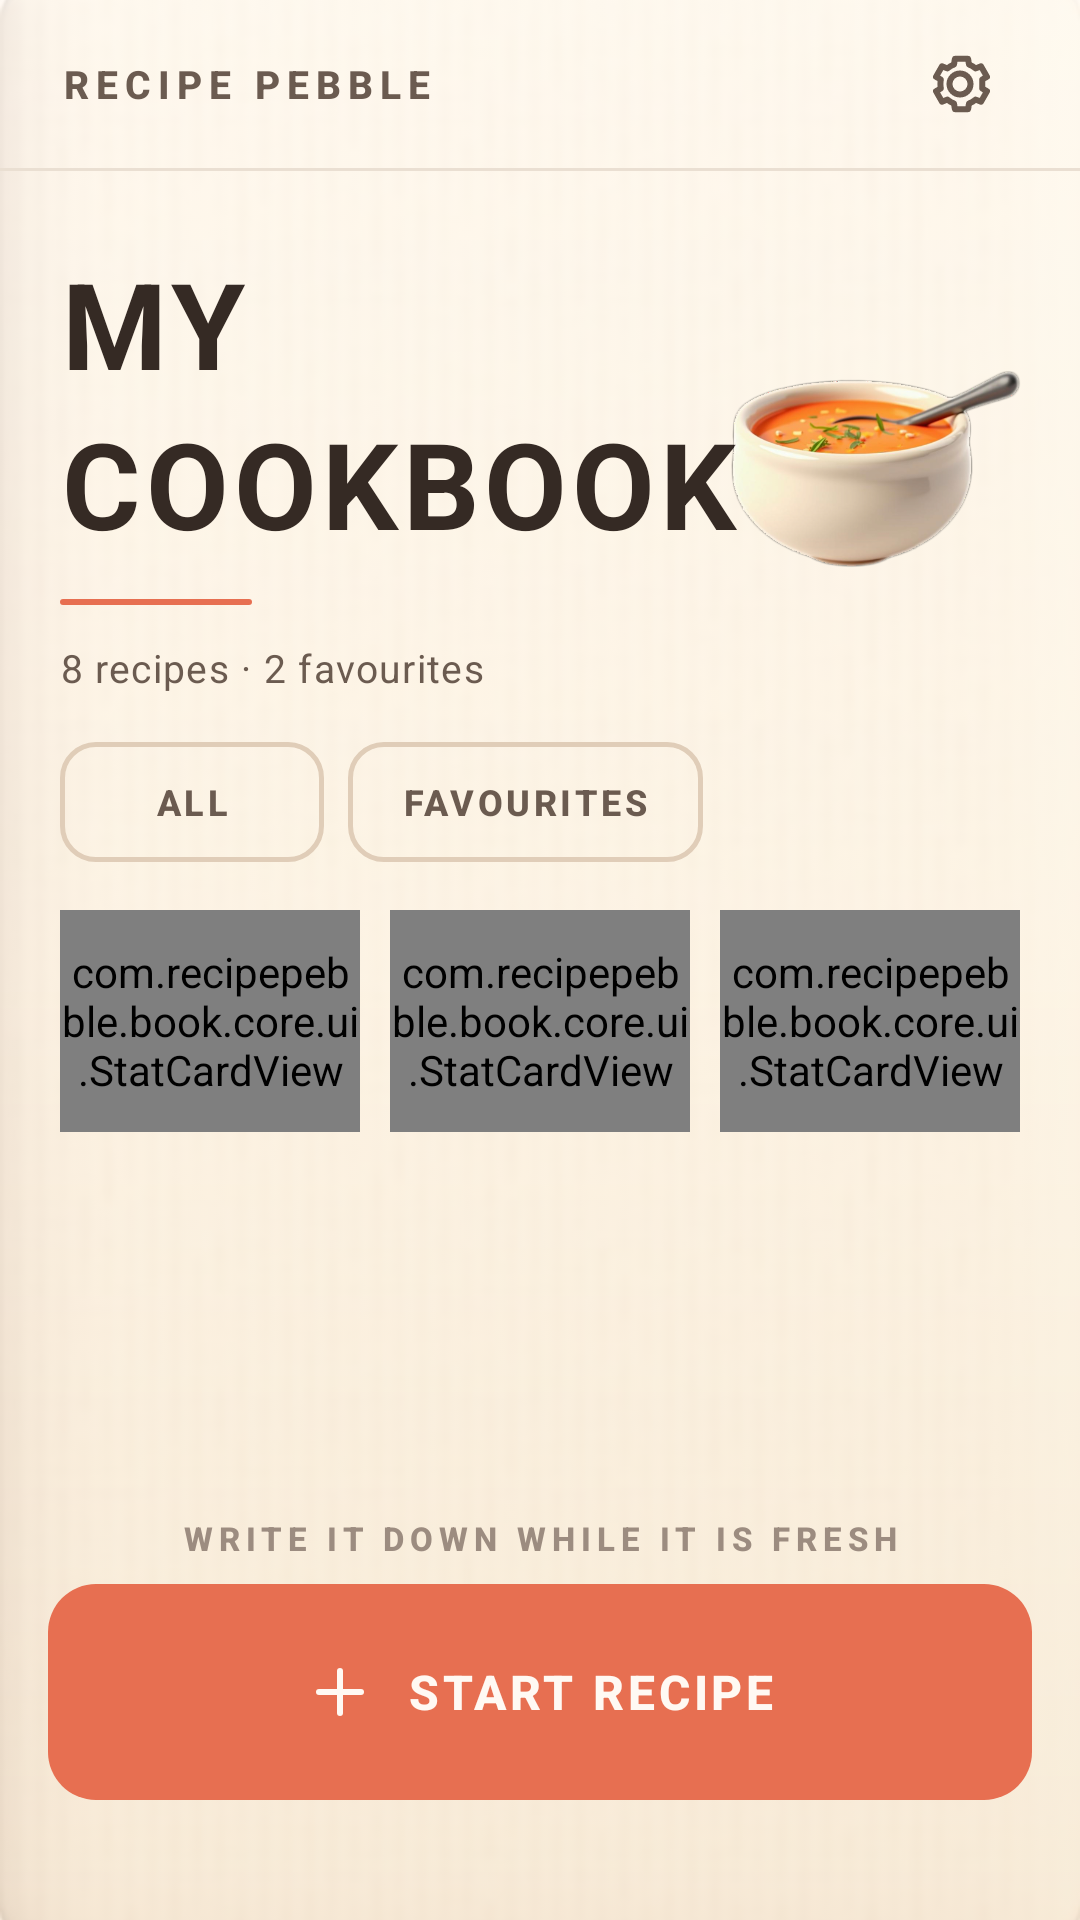

Icons on this 1080 × 1920 Android screen, each with its box as region(x1, y1, x2, y2):
Open settings: region(933, 55, 990, 113)
